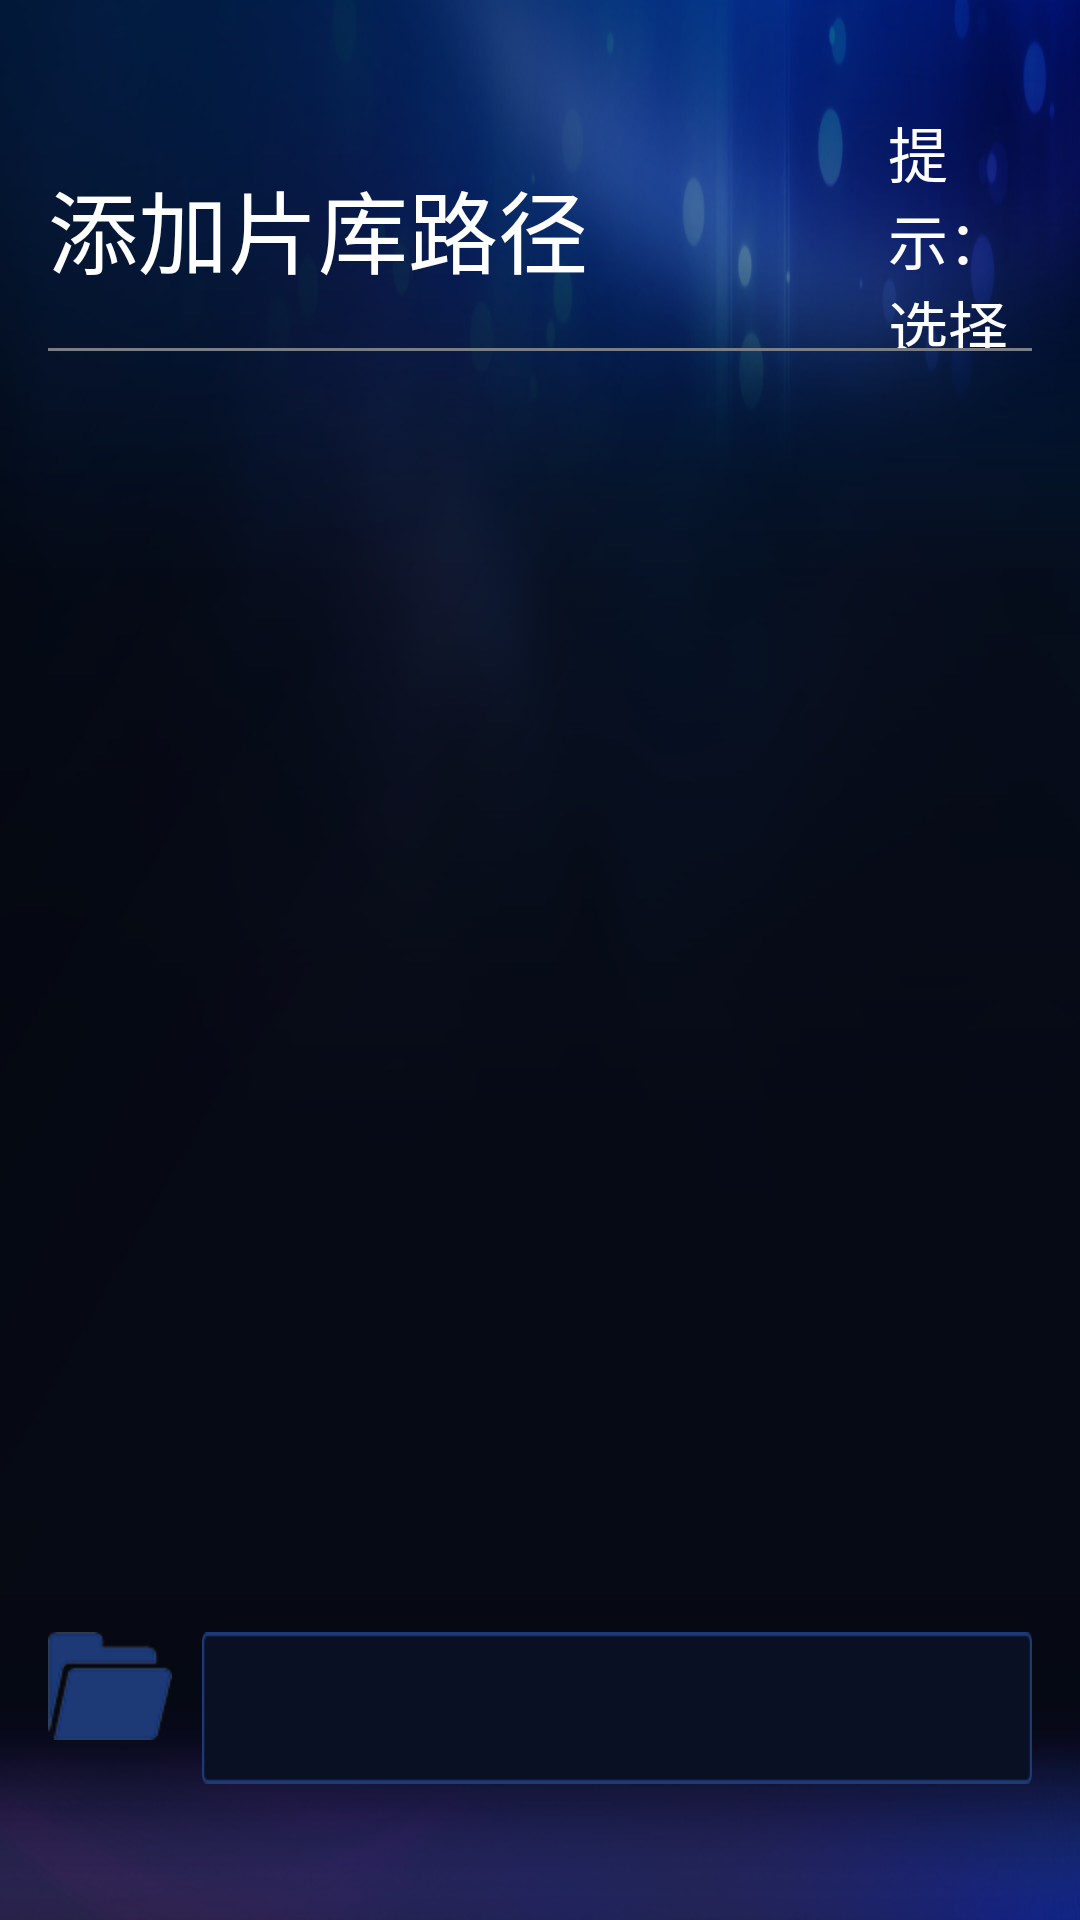

Named icons in this screenshot (1080px x 1920px) and their centers, point (x, y):
folder current: point (110, 1686)
